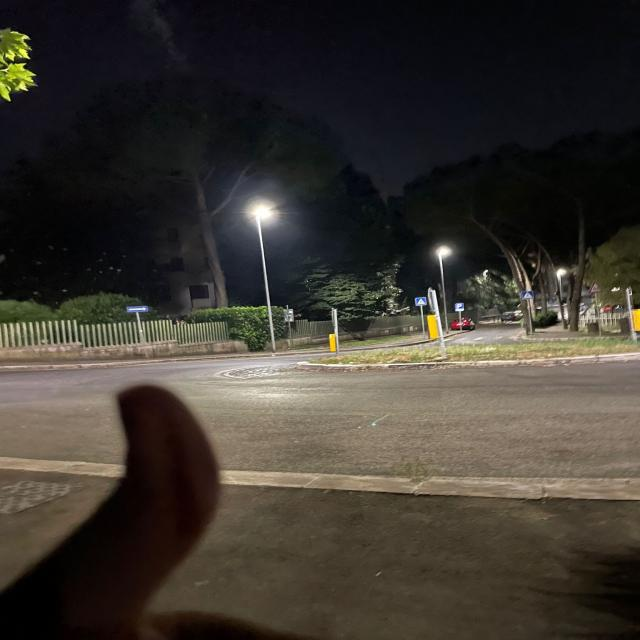lampione: (238, 191, 290, 234), (546, 258, 578, 289), (428, 241, 459, 267)
